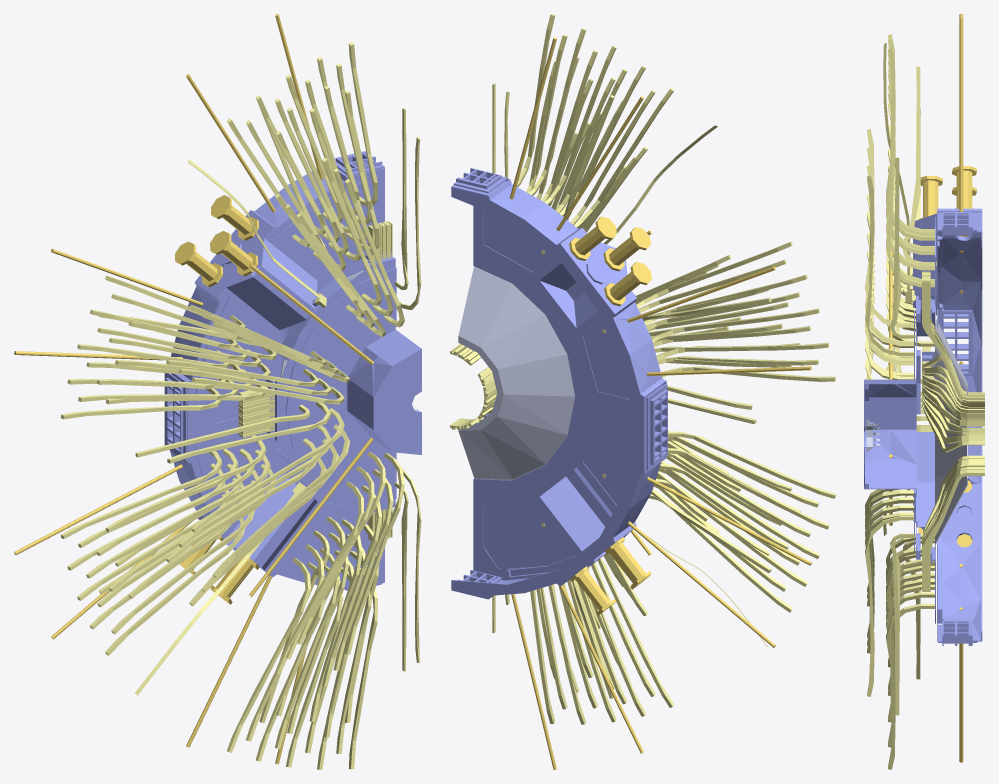
The model's file is pixel-pp1-side-A-cut2.glb.
The picture shows the model from 3 angles, left to right: view 1: azimuth 30°, elevation 25°; view 2: azimuth 150°, elevation 25°; view 3: azimuth 270°, elevation 25°; orthographic projection. The views are drawn at different scales.
Visible parts, largest first — view 1: _000001AD17D6CAA0_IndexedFaceSet, _000001AD17D66EC0_IndexedFaceSet, _000001AD285BD460_001_IndexedFaceSet; view 2: _000001AD17D66EC0_IndexedFaceSet, _000001AD17D6CAA0_IndexedFaceSet, _000001AD282AEEB0_IndexedFaceSet, _000001AD285BD460_001_IndexedFaceSet; view 3: _000001AD17D6CAA0_IndexedFaceSet, _000001AD17D66EC0_IndexedFaceSet, _000001AD285BD460_001_IndexedFaceSet, _000001AD282AEEB0_IndexedFaceSet, _000001AD282B4010_IndexedFaceSet.
Part boxes in pixels (<box>): _000001AD17D6CAA0_IndexedFaceSet: <box>61,42,421,769</box>; _000001AD17D66EC0_IndexedFaceSet: <box>164,151,421,590</box>; _000001AD285BD460_001_IndexedFaceSet: <box>14,14,373,764</box>; _000001AD17D66EC0_IndexedFaceSet: <box>451,168,667,599</box>; _000001AD17D6CAA0_IndexedFaceSet: <box>450,14,835,724</box>; _000001AD282AEEB0_IndexedFaceSet: <box>458,266,575,480</box>; _000001AD285BD460_001_IndexedFaceSet: <box>510,37,811,769</box>; _000001AD17D6CAA0_IndexedFaceSet: <box>865,34,984,769</box>; _000001AD17D66EC0_IndexedFaceSet: <box>864,208,982,645</box>; _000001AD285BD460_001_IndexedFaceSet: <box>889,14,976,762</box>; _000001AD282AEEB0_IndexedFaceSet: <box>935,311,967,550</box>; _000001AD282B4010_IndexedFaceSet: <box>866,420,879,451</box>.
Bounding box in the file's own units: 1.27 × 2.54 × 0.3741.
